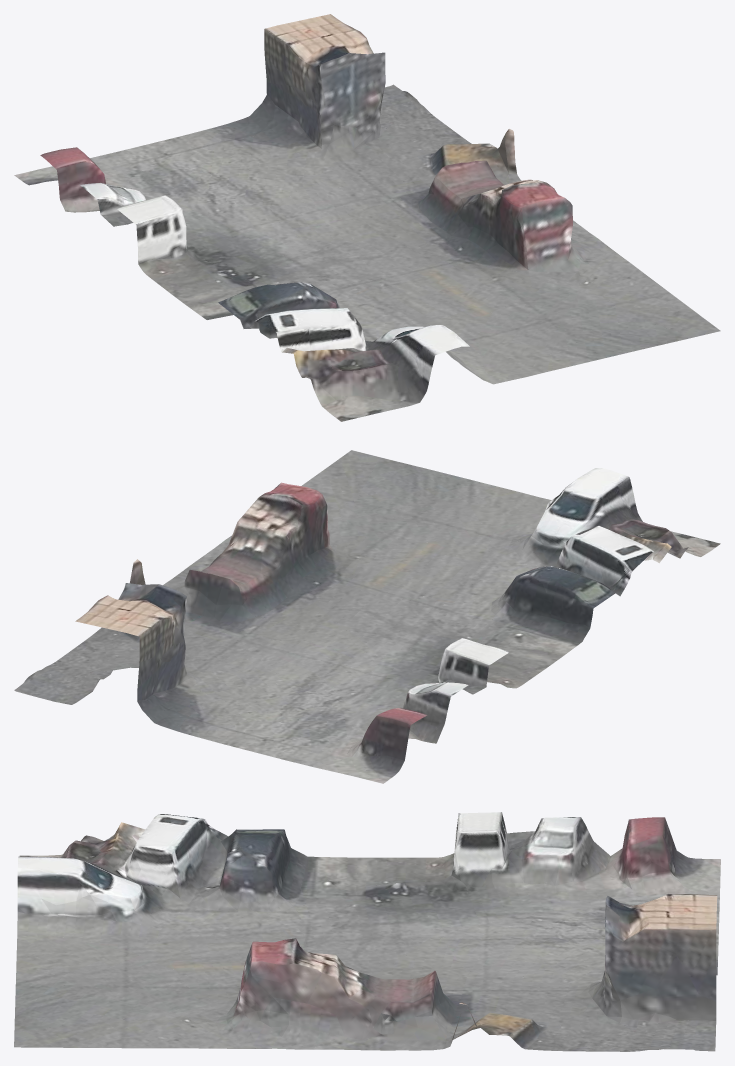
File: Tile_+004_+010_L21_0uuuu320.glb
3 views of the same model, one above another, from view 1: azimuth 30°, elevation 25°; view 2: azimuth 150°, elevation 25°; view 3: azimuth 270°, elevation 25° (orthographic). The views are drawn at different scales.
Parts seen in each view (by area): view 1: rtc; view 2: rtc; view 3: rtc.
Part boxes in pixels (x1,y1,x2,y2): rtc: (14,14,720,421); rtc: (14,450,720,783); rtc: (14,812,720,1051).
Bounding box in the file's own units: 14.15 × 3.35 × 21.52.
1 material, 1 textured.
